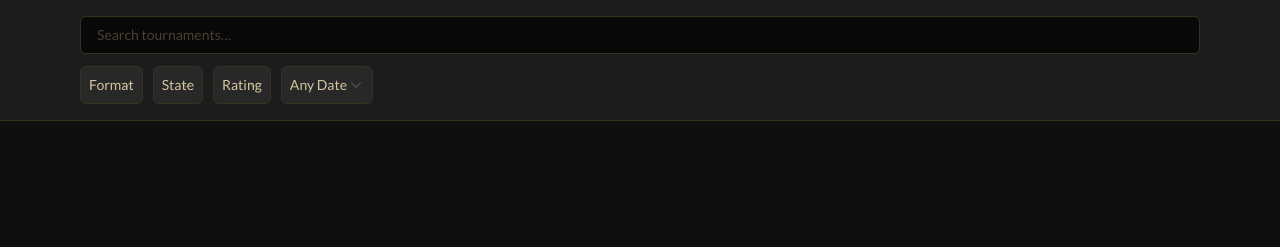
Test case: dropdown open/close › shows checkboxes after clicking the Format button
The image size is (1280, 247).
Step 1. Click the button "Format" → (111, 85), box x1=80 y1=66 x2=143 y2=104
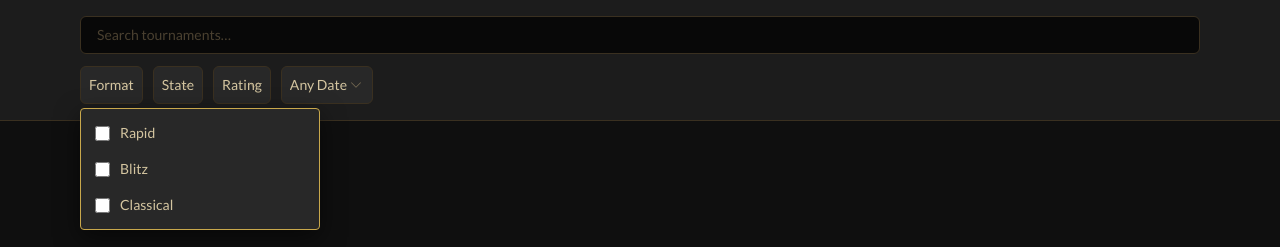
Expected: the checkbox labelled "Rapid" is shown, x1=95 y1=126 x2=110 y2=140
